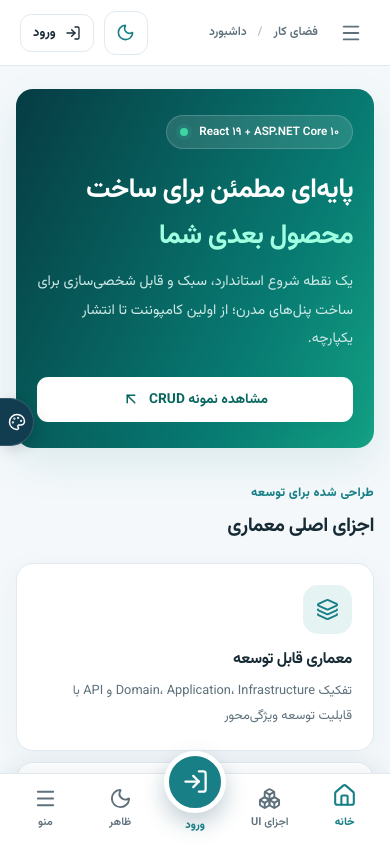
Test: mobile navigation drawer › keeps its backdrop mounted while closing so CSS can animate out
What coordinates should you click on to do the following:
click the button named "باز کردن منو"
I would click on:
 (351, 32)
Its box is [332,14,370,52].
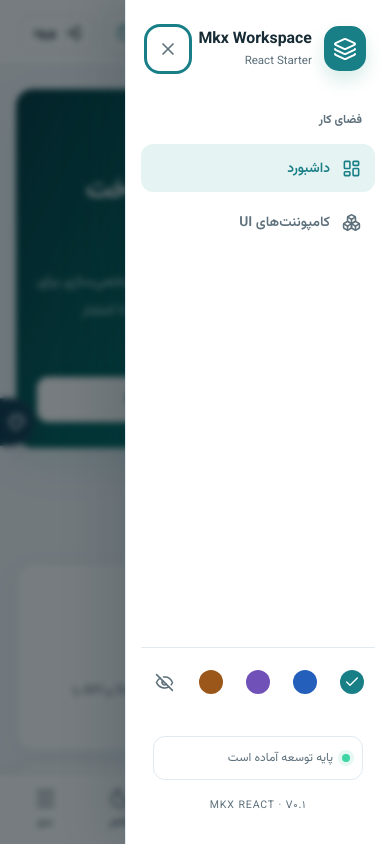
Expected: the button named "باز کردن منو" is expanded, [332,14,370,52]
What coordinates should you click on to do the following:
click the button with class "sidebar-backdrop"
I would click on:
 (23, 422)
Its box is [0,0,389,843].
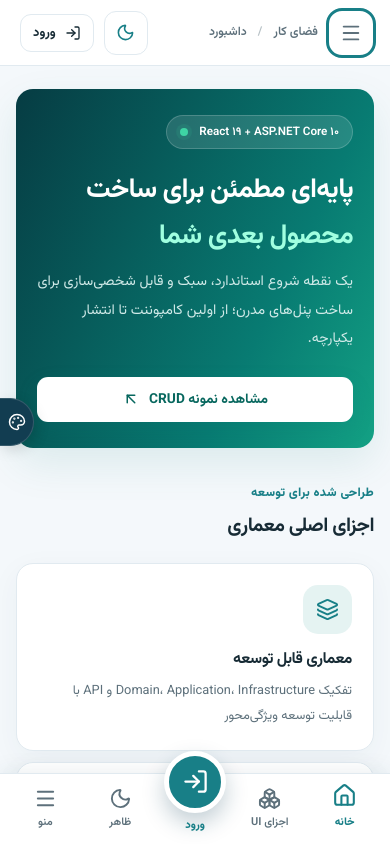
Expected: the button named "باز کردن منو" is collapsed, [332,14,370,52]
